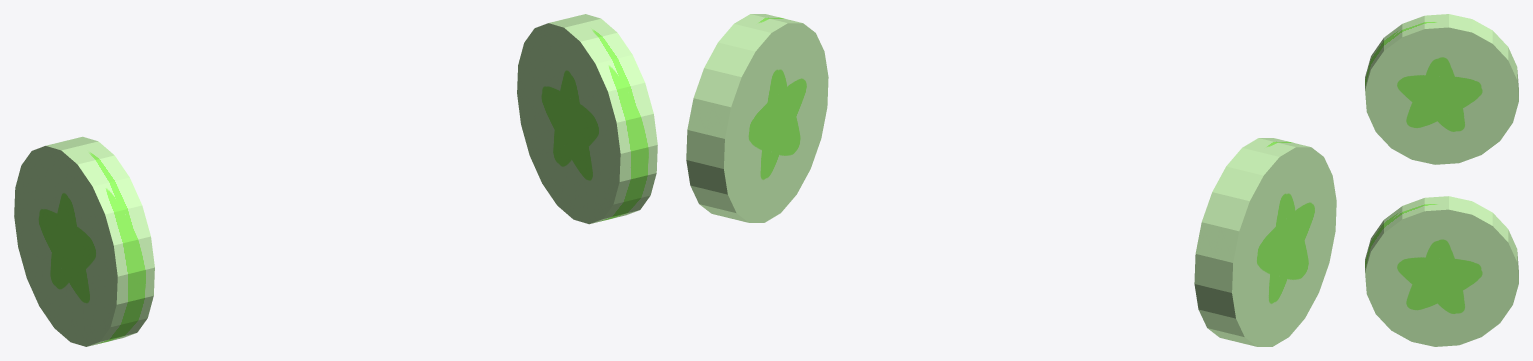
File: hat_1__Object_16.glb
The picture shows the model from 3 angles, left to right: view 1: azimuth 30°, elevation 25°; view 2: azimuth 150°, elevation 25°; view 3: azimuth 270°, elevation 25°; orthographic projection. The views are drawn at different scales.
Parts seen in each view (by area): view 1: geometry_0; view 2: geometry_0; view 3: geometry_0.
Boxes of the visible parts, <box> form: geometry_0: <box>14,14,657,346</box>; geometry_0: <box>686,14,1336,346</box>; geometry_0: <box>1365,14,1518,346</box>.
Size of the model in its own units: 1.3 by 0.424 by 0.4303.
Materials: 1 (1 with a texture image).
